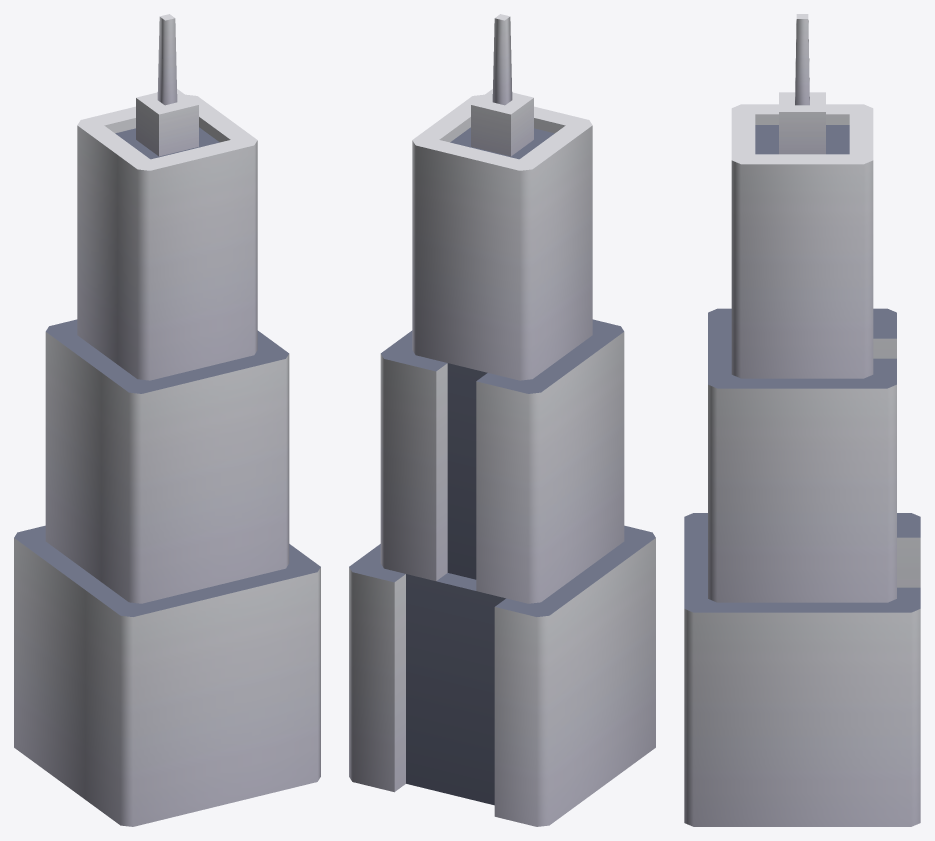
File: low-detail-building-i.glb
The picture shows the model from 3 angles, left to right: view 1: azimuth 30°, elevation 25°; view 2: azimuth 150°, elevation 25°; view 3: azimuth 270°, elevation 25°; orthographic projection. The views are drawn at different scales.
Visible parts, largest first — view 1: low-detail-building-i; view 2: low-detail-building-i; view 3: low-detail-building-i.
Part boxes in pixels (box(x1,y1,x2,y2)): low-detail-building-i: box(14, 14, 320, 826); low-detail-building-i: box(349, 14, 655, 826); low-detail-building-i: box(684, 14, 920, 826).
Size of the model in its own units: 0.4999 by 1.77 by 0.4999.
1 material, 1 textured.
